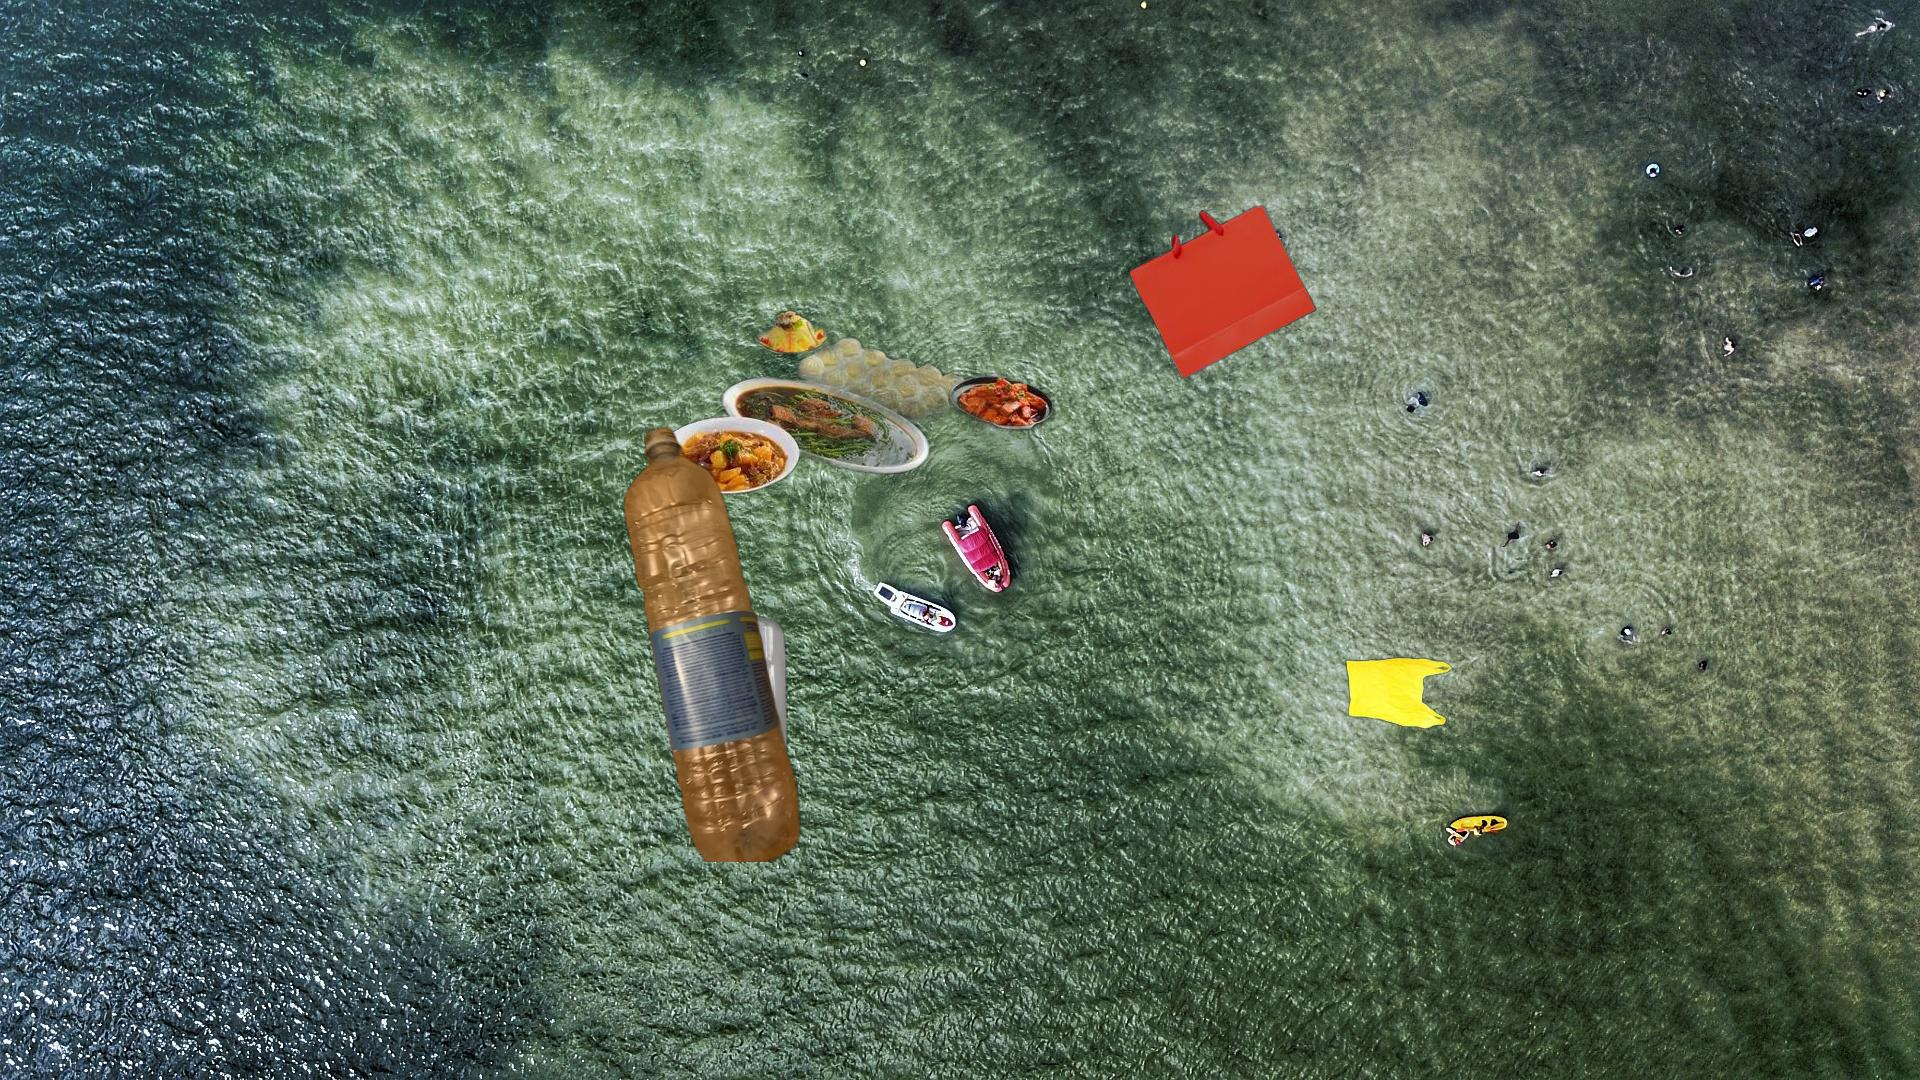biological: (651, 307, 1059, 512)
glass: (678, 613, 793, 862)
paper-bag: (1126, 204, 1319, 380)
plastic-bag: (1342, 655, 1455, 732)
plastic-bottles: (620, 423, 804, 862)
